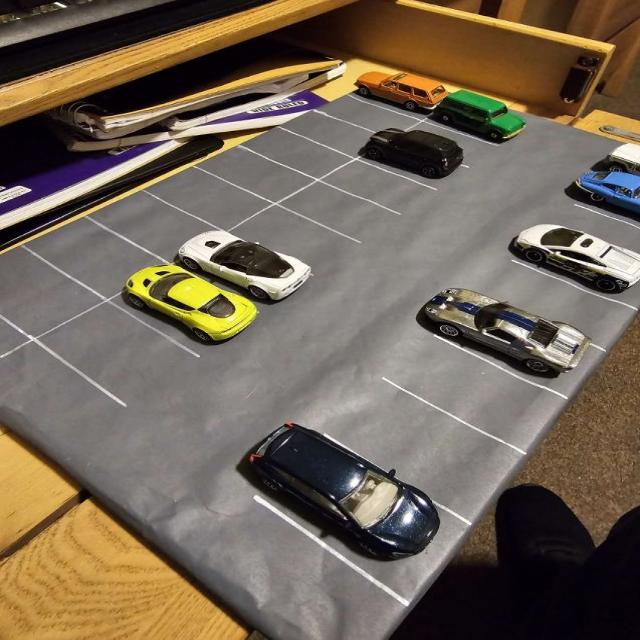Empty: (326, 377, 531, 527), (376, 336, 569, 457), (27, 298, 206, 410), (476, 260, 640, 354), (19, 216, 179, 303), (82, 189, 229, 268), (222, 203, 368, 278), (0, 243, 111, 341), (140, 164, 283, 235), (272, 178, 408, 246), (312, 157, 444, 217), (196, 145, 323, 204), (238, 125, 357, 181), (276, 109, 393, 162), (311, 94, 427, 138)
Taken: (249, 433, 476, 609), (429, 292, 610, 398), (99, 265, 270, 358), (174, 228, 315, 316), (510, 226, 640, 310), (352, 134, 476, 191), (421, 97, 528, 146), (347, 76, 457, 121), (563, 168, 640, 229), (608, 142, 640, 177)
